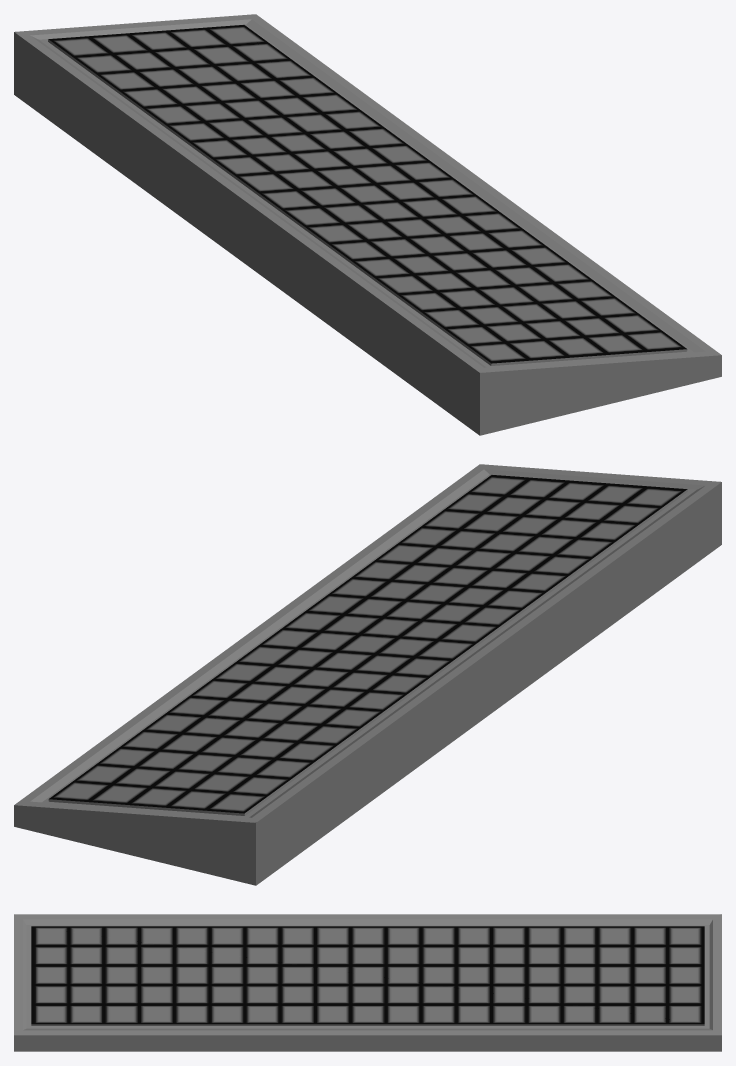
The model's file is keyboard.glb.
3 views of the same model, one above another, from view 1: azimuth 30°, elevation 25°; view 2: azimuth 150°, elevation 25°; view 3: azimuth 270°, elevation 25° (orthographic). The views are drawn at different scales.
Parts seen in each view (by area): view 1: keyboard; view 2: keyboard; view 3: keyboard.
Part boxes in pixels (x1,y1,x2,y2): keyboard: (14, 14, 721, 435); keyboard: (14, 464, 721, 885); keyboard: (14, 914, 721, 1051).
Bounding box in the file's own units: 0.1946 × 0.0483 × 0.6487.
1 material, 1 textured.
